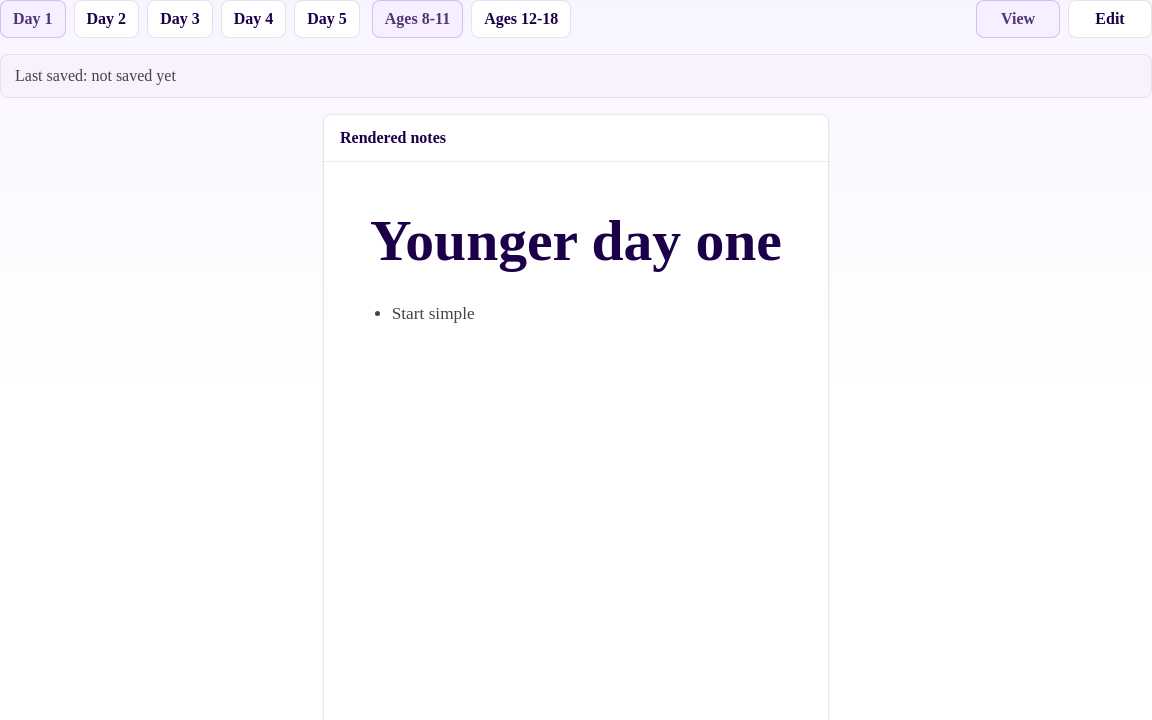
Test: CourseMaterialEditor › shows the editable split preview after clicking edit
Click the button "Edit": {"x": 1110, "y": 19} [1068,0,1151,38]
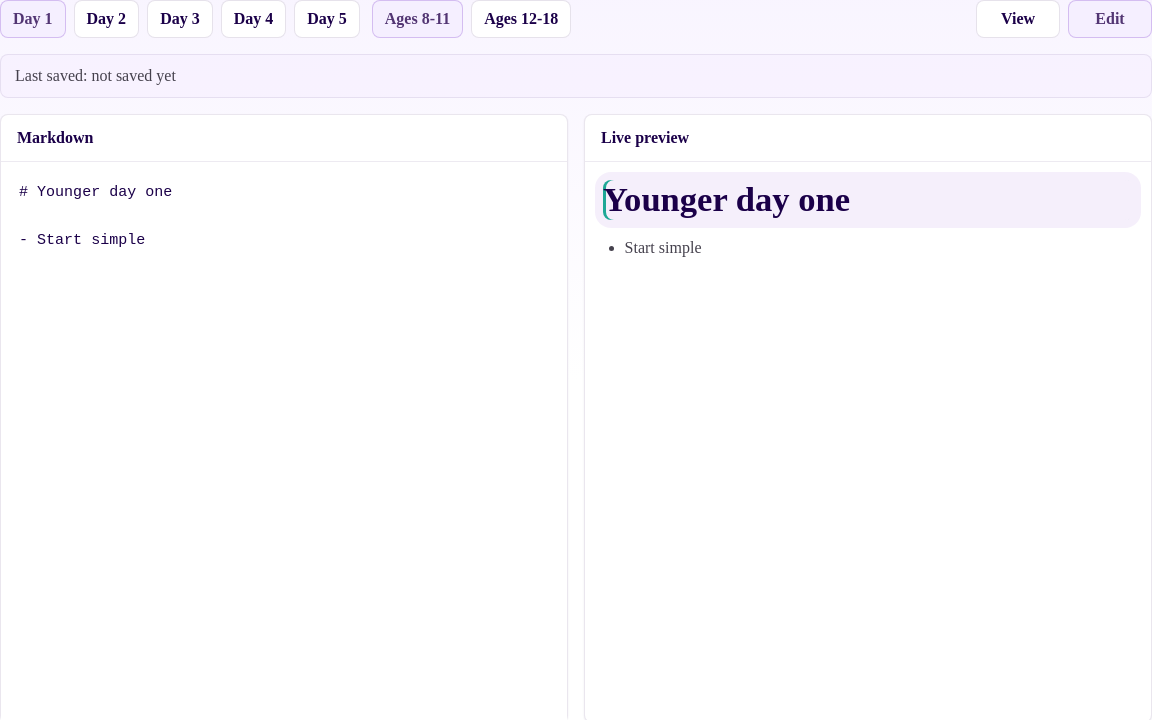
Click the button "Ages 12-18": {"x": 521, "y": 19} [471,0,571,38]
(page scrolled)
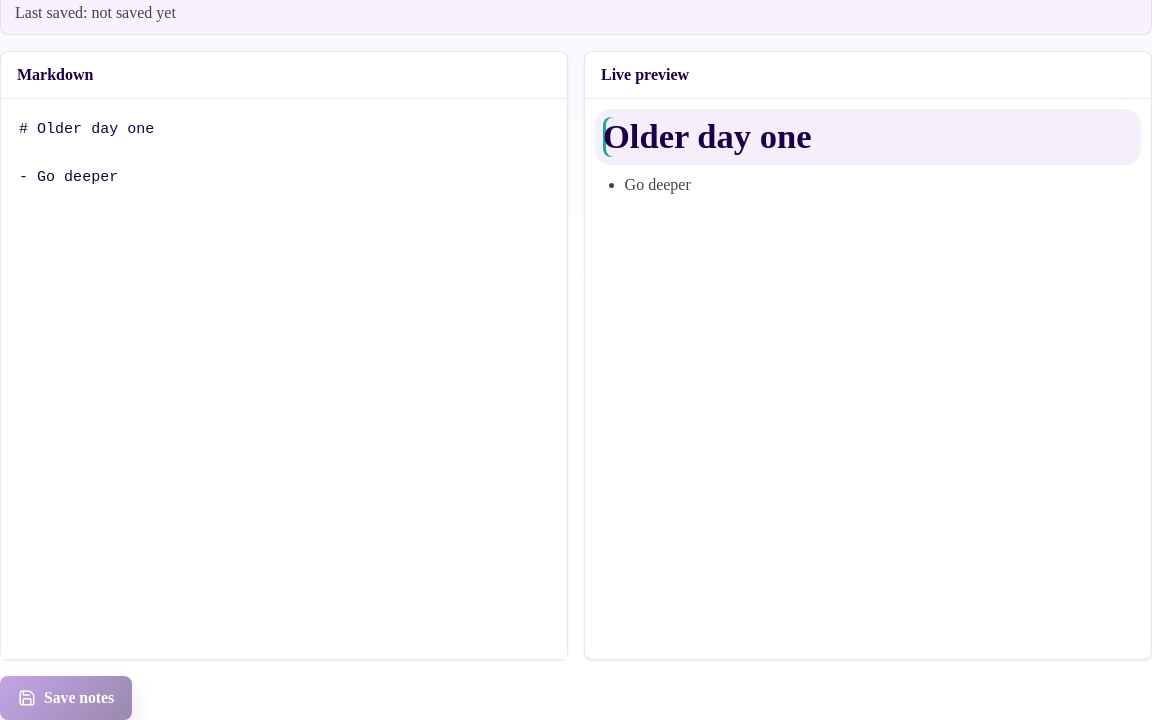
Expected: the heading "Older day one" is shown, [603,117,1133,157]
Expected: the text box showing "# Older day one" is shown, [1,99,567,659]
